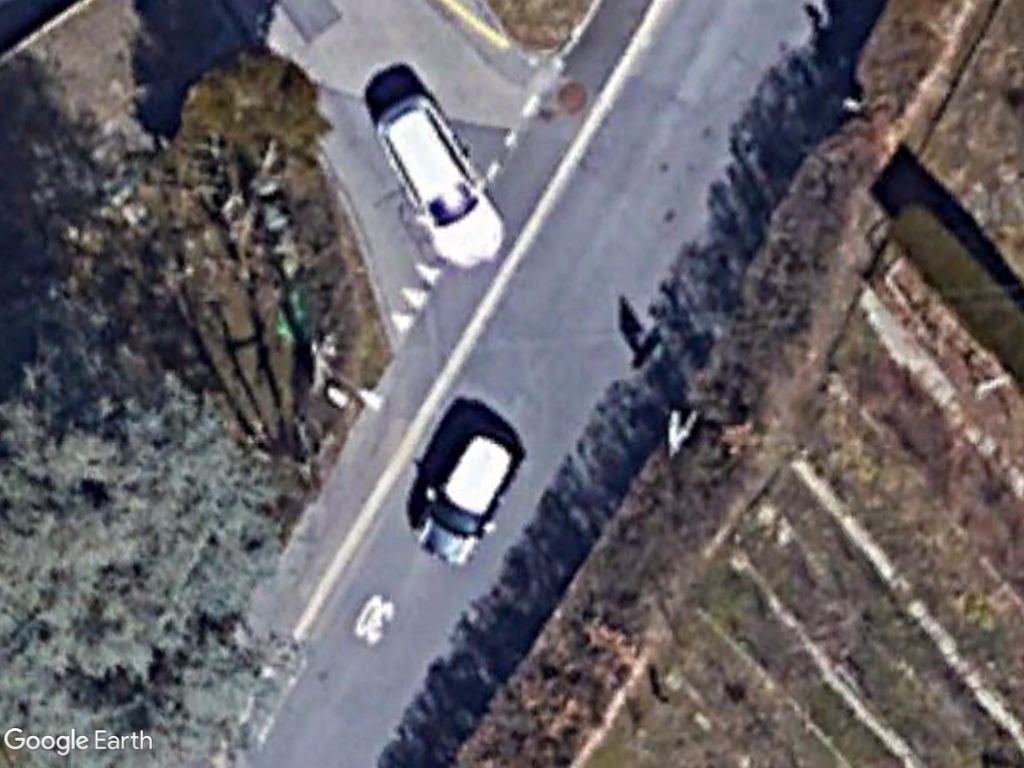car: (366, 94, 509, 269), (413, 425, 529, 570)
